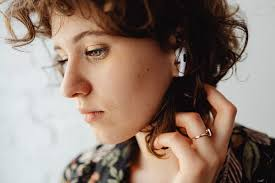earphone: (163, 28, 192, 77)
